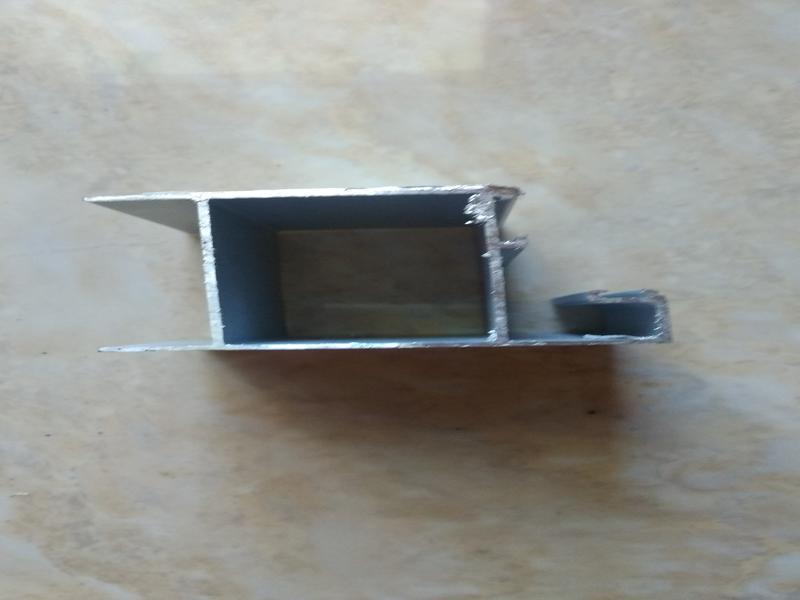Aluminium_2: (51, 154, 719, 384)
